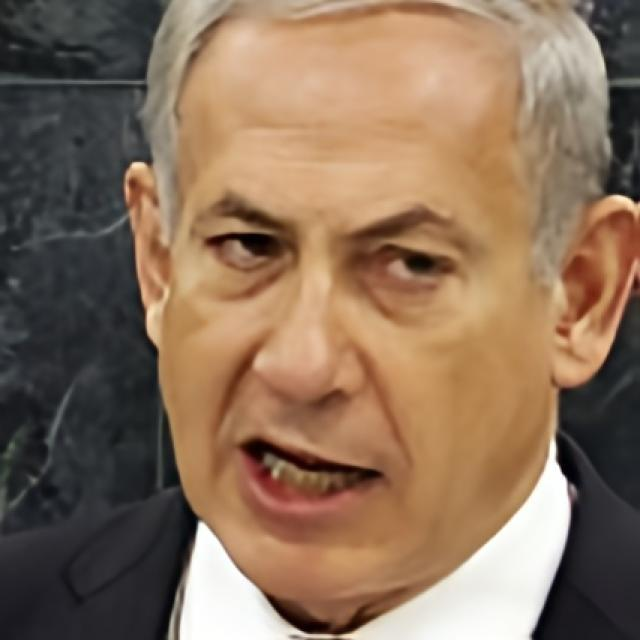anger: (162, 58, 550, 595)
